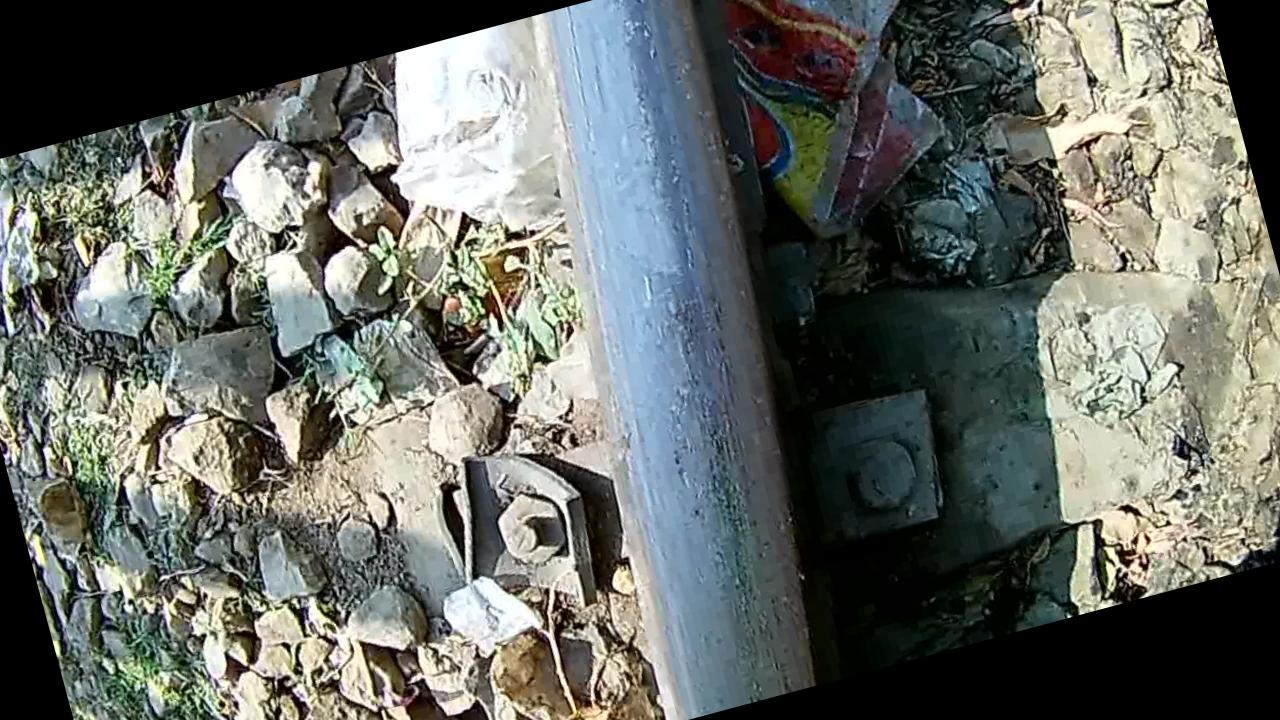clip_missing: (520, 0, 855, 713)
